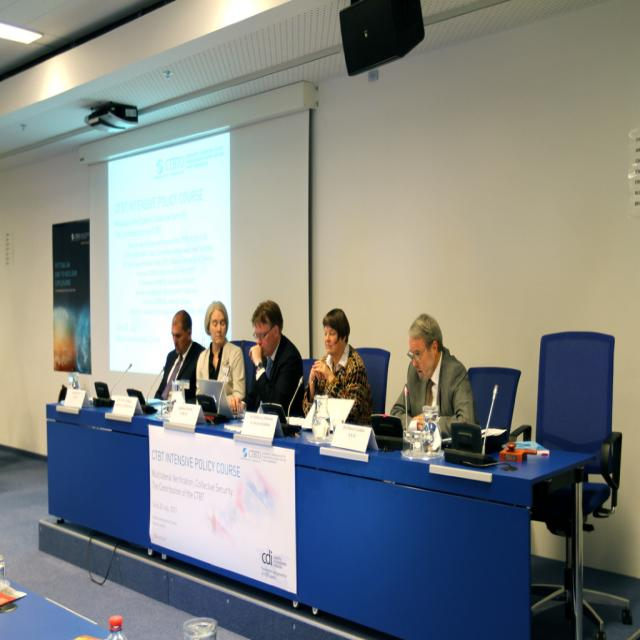chair: (529, 333, 633, 635), (356, 346, 390, 414)
desk: (70, 363, 611, 616)
laptop: (447, 367, 521, 458), (196, 378, 226, 418)
person: (388, 312, 481, 434), (305, 307, 373, 423), (238, 300, 303, 419), (198, 300, 246, 409), (156, 308, 206, 401)
tv: (338, 0, 426, 76)
